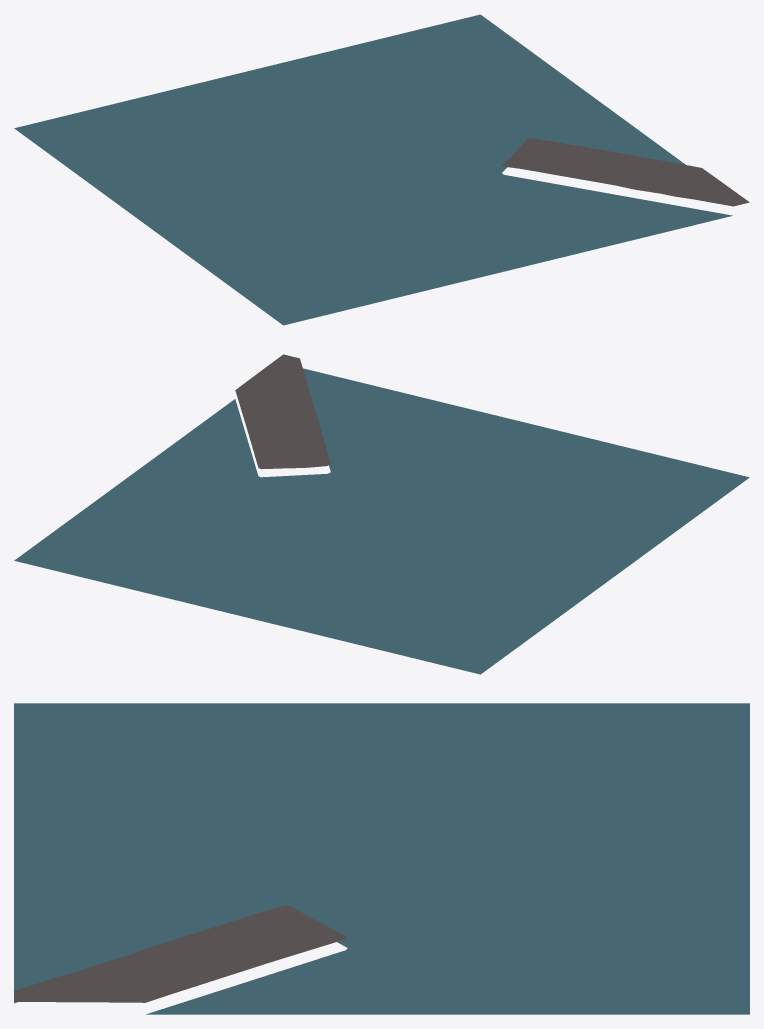
The picture shows the model from 3 angles, top to bottom: view 1: azimuth 30°, elevation 25°; view 2: azimuth 150°, elevation 25°; view 3: azimuth 270°, elevation 25°; orthographic projection. The views are drawn at different scales.
Visible parts, largest first — view 1: c_m12_p08; view 2: c_m12_p08; view 3: c_m12_p08.
Part boxes in pixels (box(x1,y1,x2,y2)): c_m12_p08: box(14, 14, 749, 325); c_m12_p08: box(14, 354, 749, 674); c_m12_p08: box(14, 703, 749, 1014).
Bounding box in the file's own units: 128 × 2.41 × 128.
